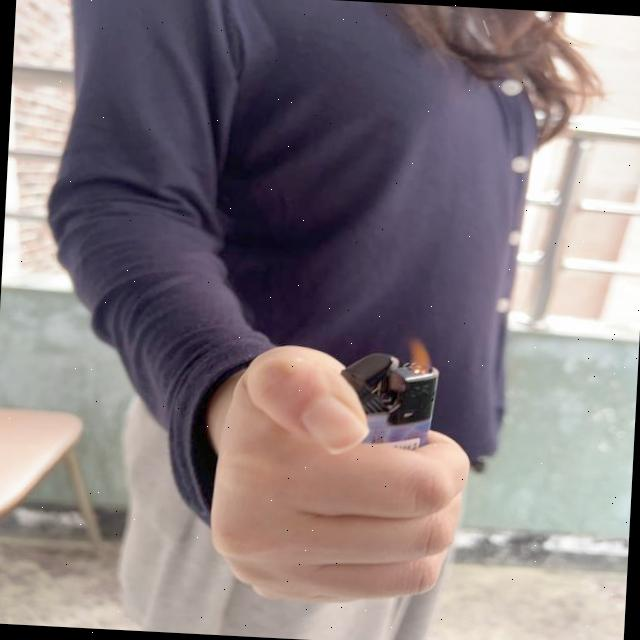fire: (401, 335, 436, 377)
